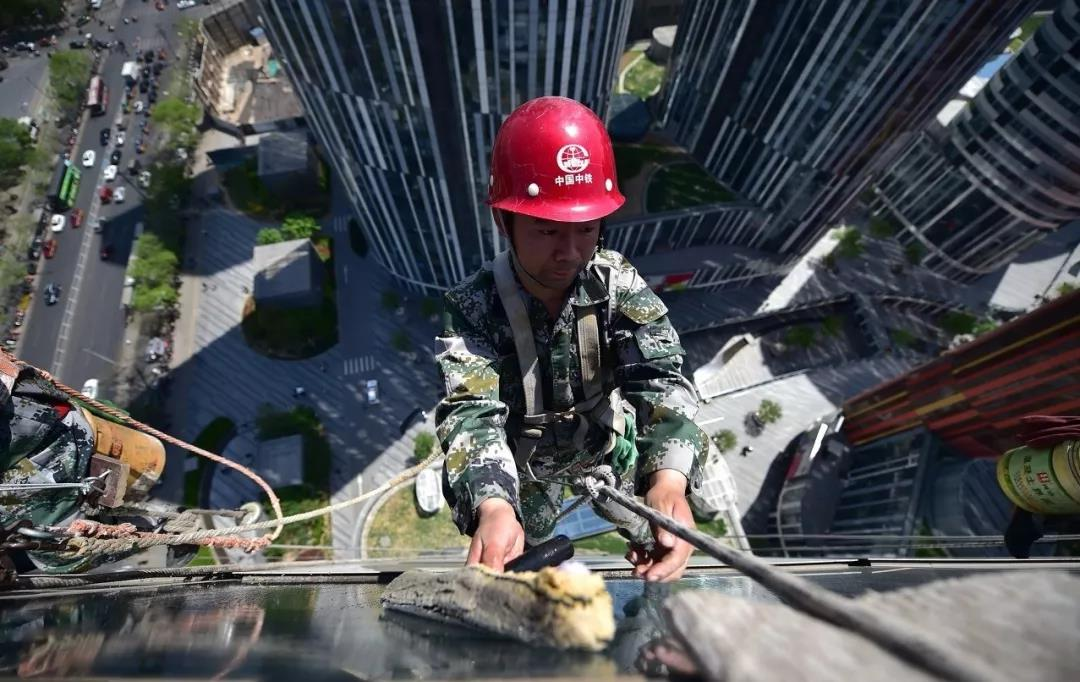safetyhat: (407, 83, 729, 585)
